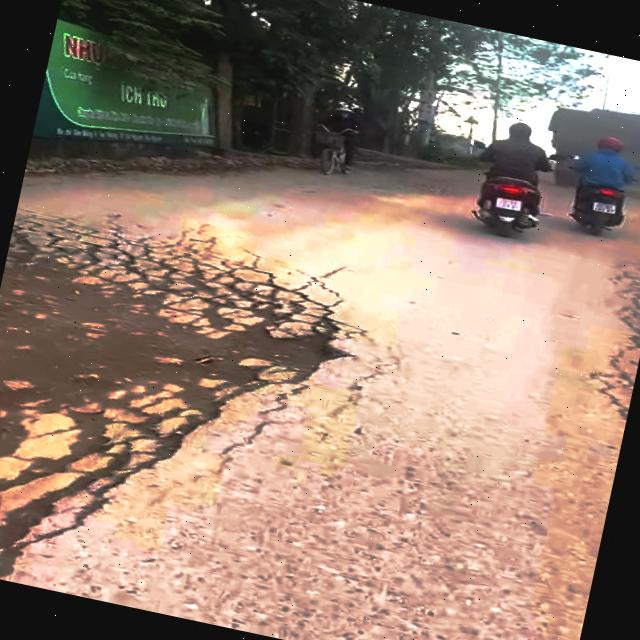pothole: (0, 204, 373, 606)
